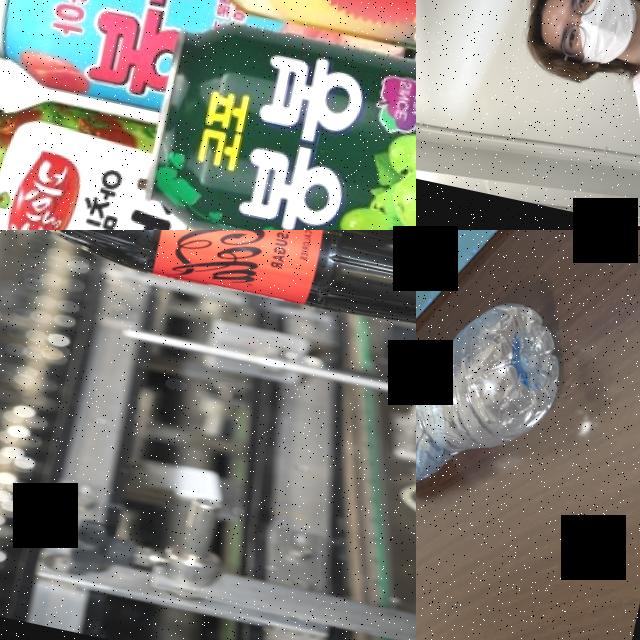bottle: (416, 250, 591, 565), (0, 230, 416, 355)
can: (142, 7, 416, 230), (0, 92, 393, 230), (0, 0, 213, 113), (182, 0, 416, 86)
